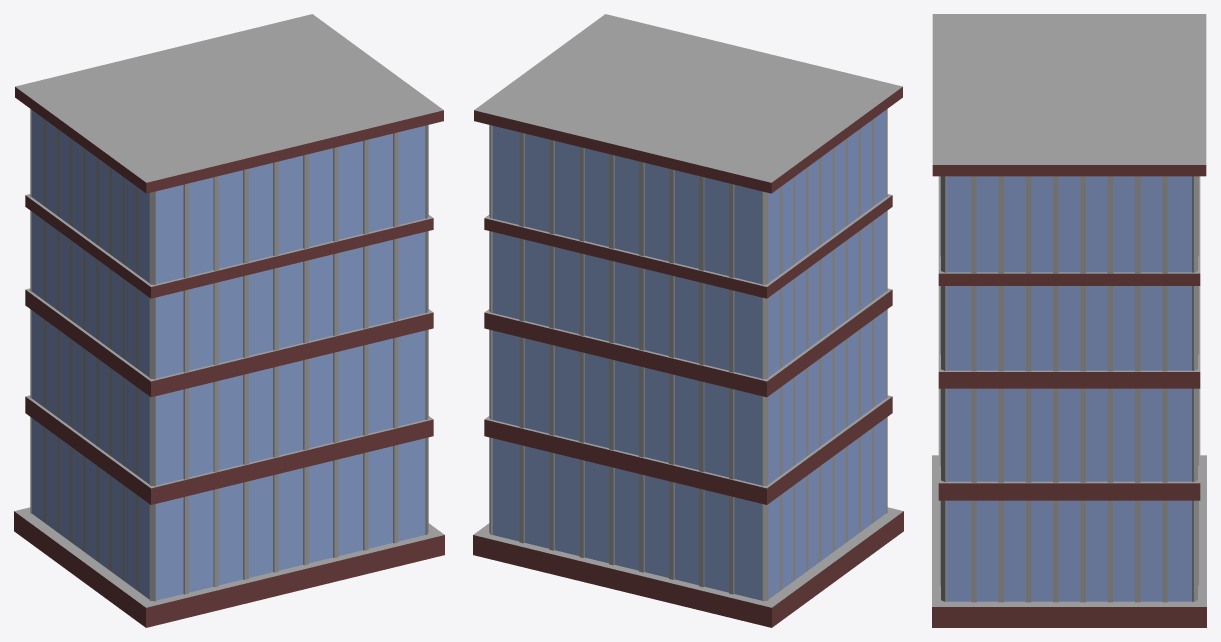
Rendered from Tower4.fbx.
The picture shows the model from 3 angles, left to right: view 1: azimuth 30°, elevation 25°; view 2: azimuth 150°, elevation 25°; view 3: azimuth 270°, elevation 25°; orthographic projection. The views are drawn at different scales.
Visible parts, largest first — view 1: Tower4; view 2: Tower4; view 3: Tower4.
Boxes of the visible parts, left/top/right/bottom form: Tower4: left=14, top=14, right=444, bottom=627; Tower4: left=473, top=14, right=903, bottom=627; Tower4: left=932, top=14, right=1206, bottom=627.
Bounding box in the file's own units: 322 × 458 × 246.
